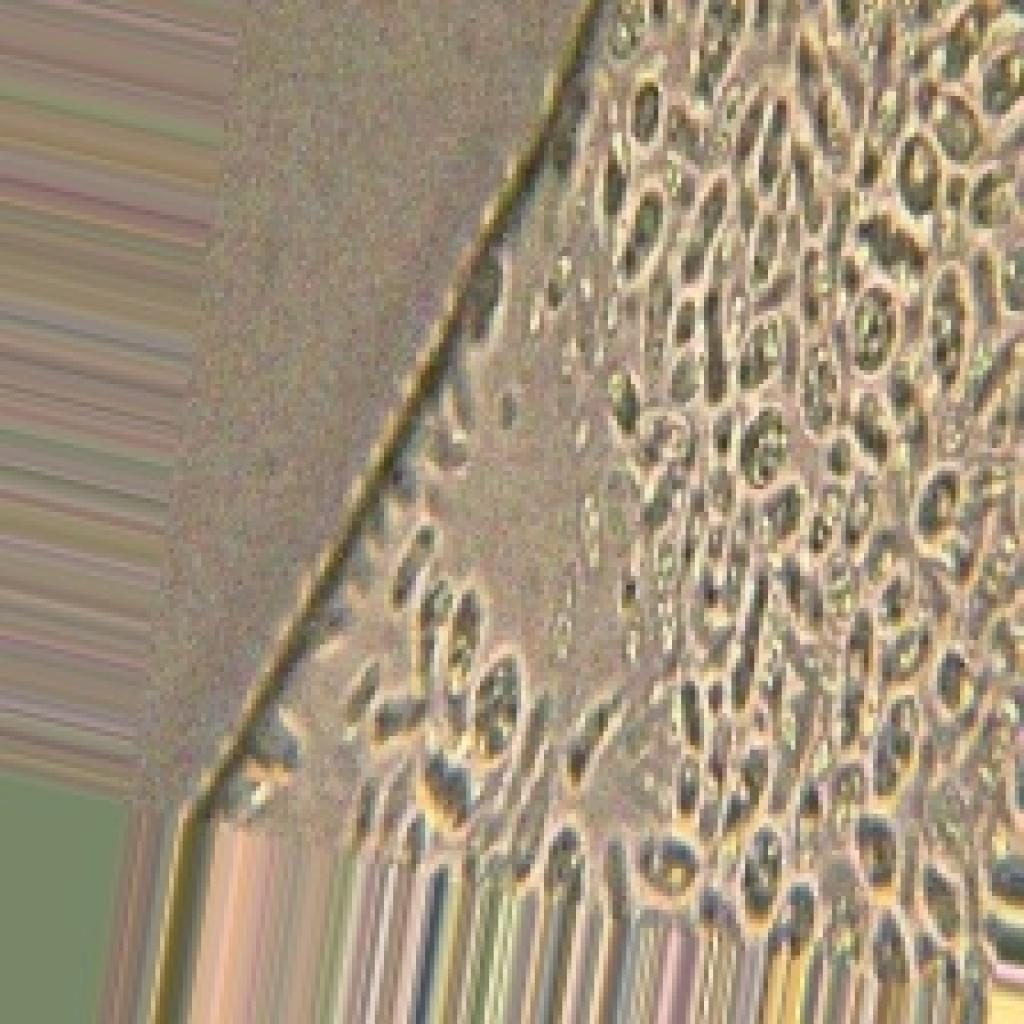Yeast: (140, 0, 1024, 1024)
